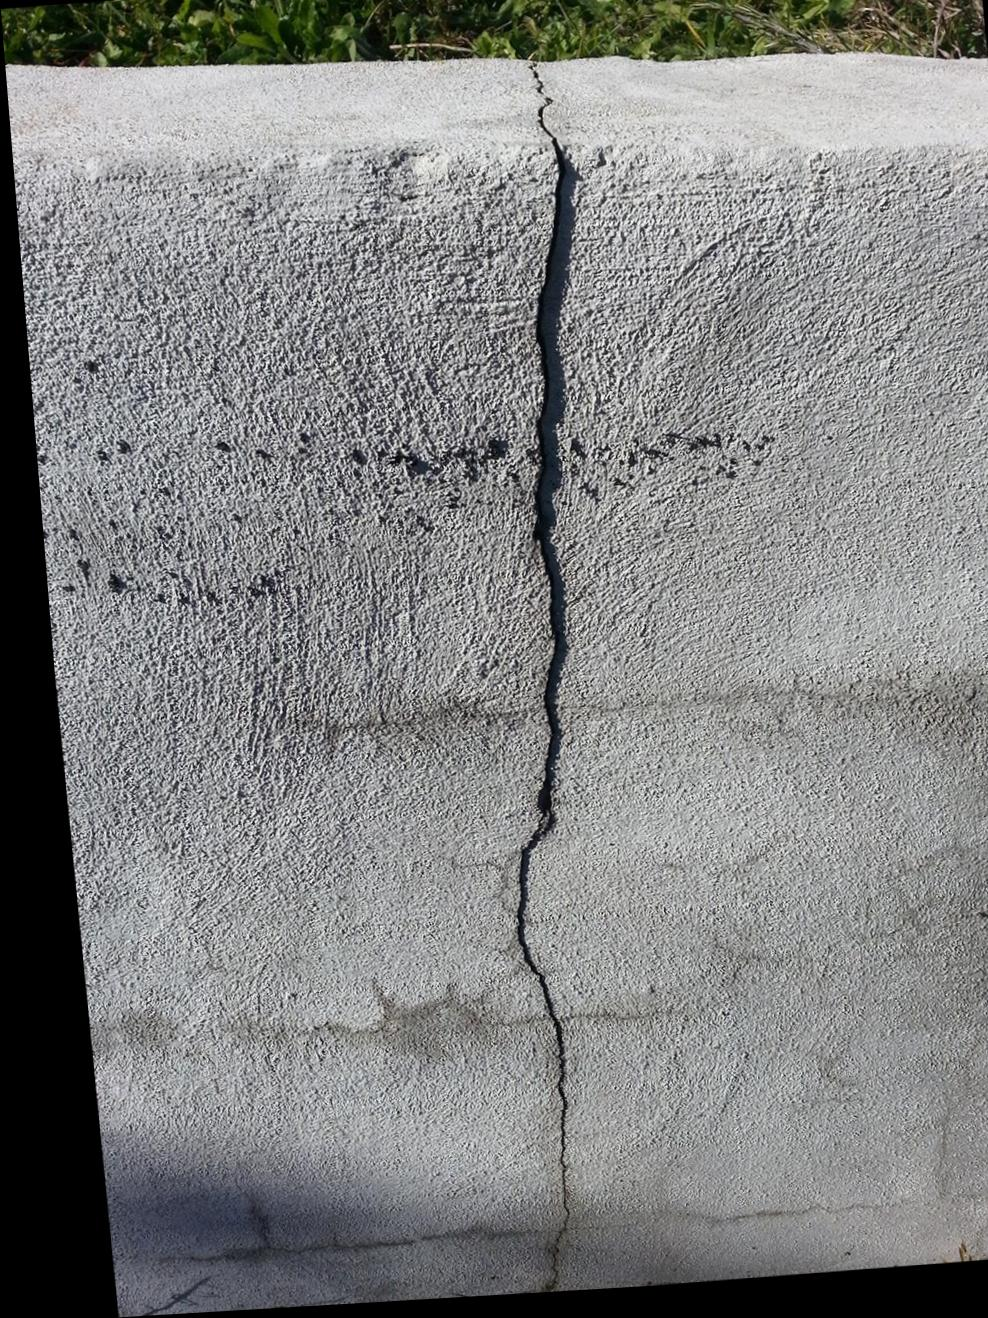crack: (500, 67, 573, 1297)
